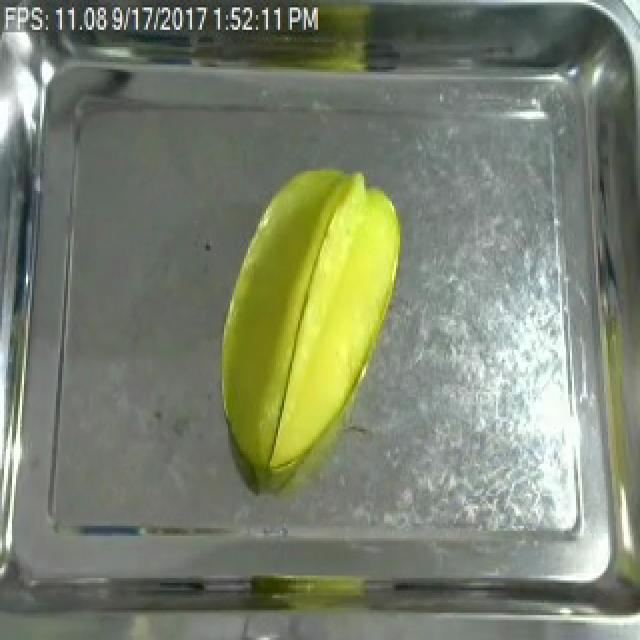fruit: (204, 158, 406, 488)
